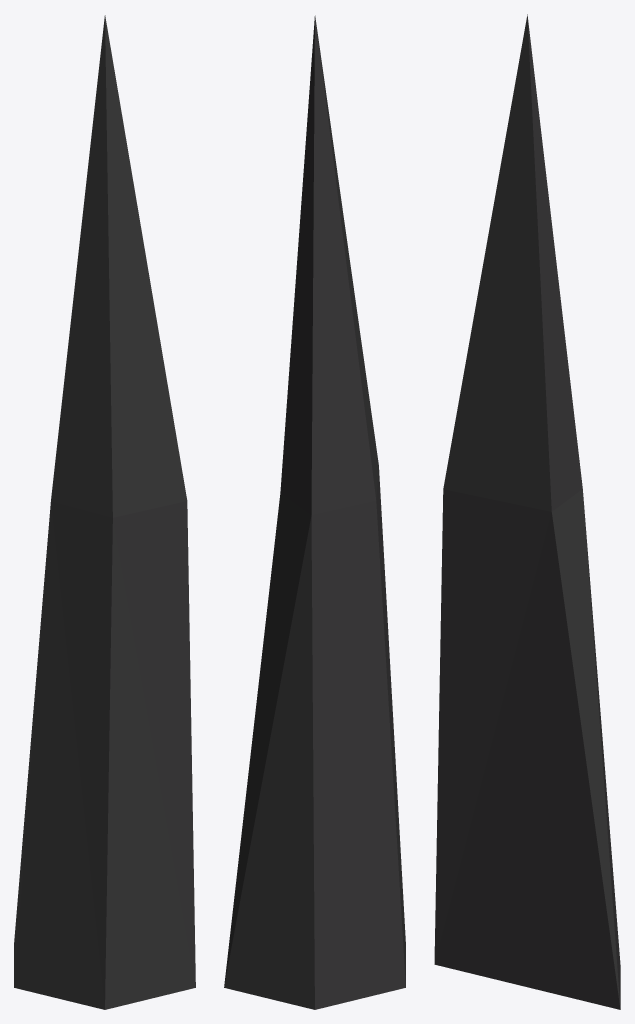
The model's file is Stal_1C_LOD.fbx.
3 renders of one model, left to right at view 1: azimuth 90°, elevation 25°; view 2: azimuth 150°, elevation 25°; view 3: azimuth 270°, elevation 25°, orthographic. The views are drawn at different scales.
Visible parts, largest first — view 1: pCone41; view 2: pCone41; view 3: pCone41.
Part boxes in pixels (box(x1,y1,x2,y2)): pCone41: box(14, 15, 195, 1009); pCone41: box(224, 15, 405, 1009); pCone41: box(434, 14, 620, 1009).
Size of the model in its own units: 0.3 by 2 by 0.3464.
